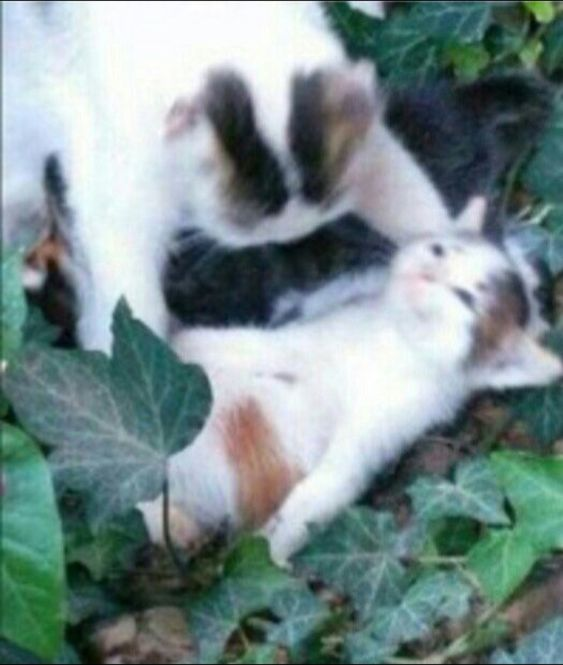cat: (149, 197, 561, 540), (1, 1, 452, 250)
